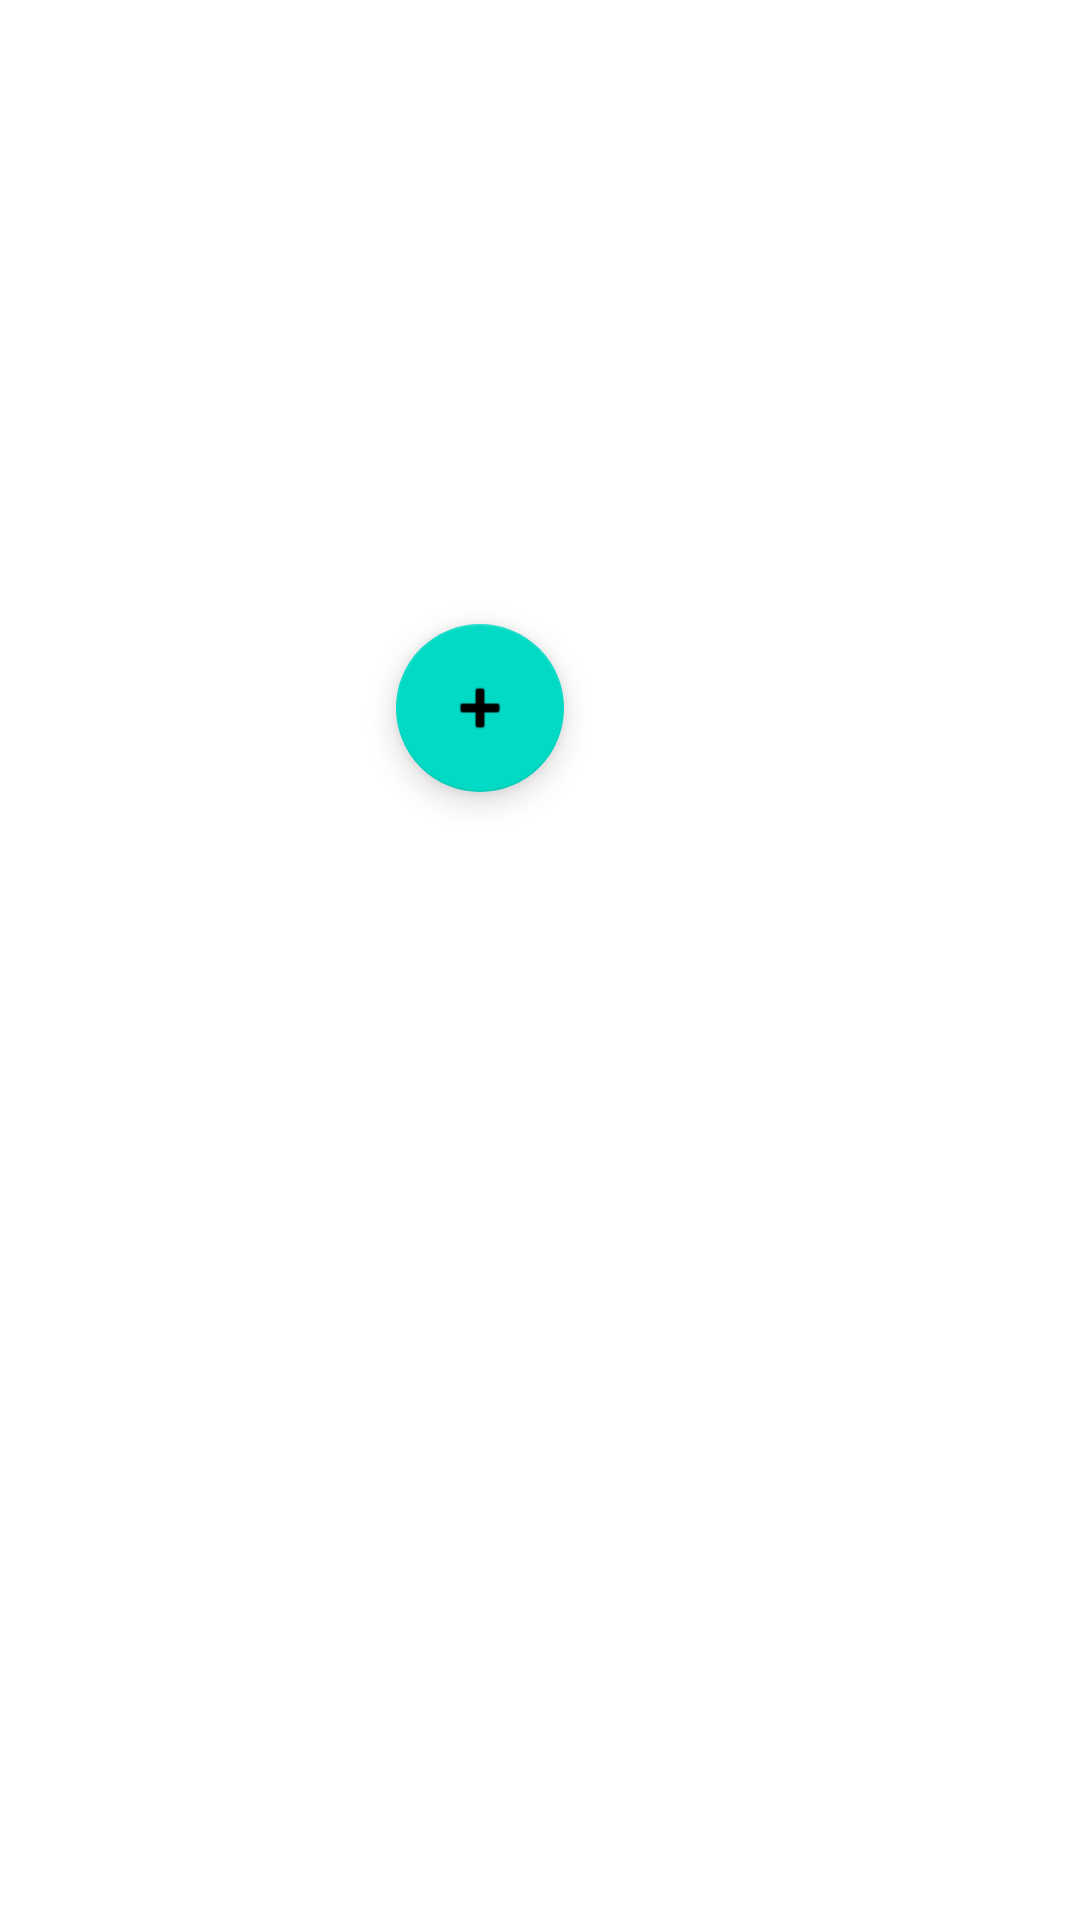

Locate icon controls on the screen. Image size 1080×1920, boxes as box=[x1, y1, x2, y2].
add: box=[396, 624, 564, 792]
